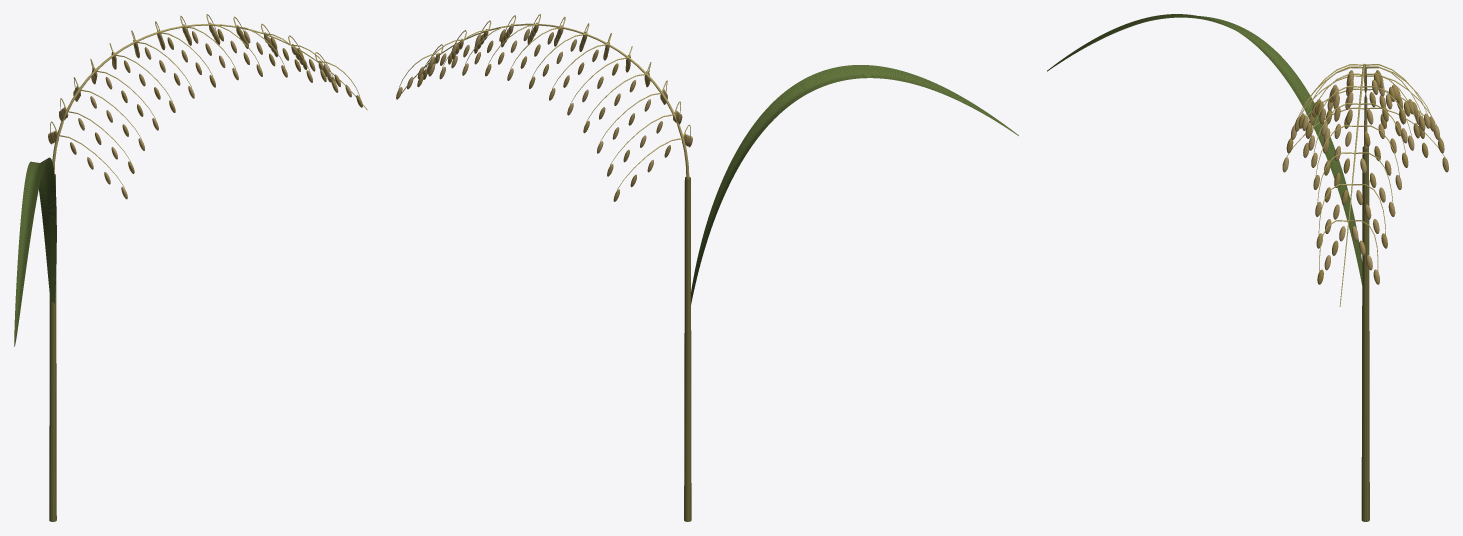
File: rice-detail.glb
3 views of the same model, side by side, from view 1: azimuth 30°, elevation 25°; view 2: azimuth 150°, elevation 25°; view 3: azimuth 270°, elevation 25° (orthographic). The views are drawn at different scales.
Parts seen in each view (by area): view 1: grain, grass-leaf, rachis, stem; view 2: grass-leaf, grain, stem, rachis; view 3: grain, rachis, grass-leaf, stem.
Boxes of the visible parts, left/top/right/bottom form: grain: left=48, top=22, right=362, bottom=199; grass-leaf: left=14, top=157, right=56, bottom=346; rachis: left=50, top=14, right=367, bottom=188; stem: left=49, top=174, right=56, bottom=521; grass-leaf: left=691, top=65, right=1018, bottom=304; grain: left=396, top=22, right=692, bottom=201; stem: left=684, top=177, right=691, bottom=521; rachis: left=398, top=14, right=690, bottom=191; grain: left=1282, top=70, right=1448, bottom=284; rachis: left=1285, top=63, right=1446, bottom=306; grass-leaf: left=1047, top=14, right=1362, bottom=285; stem: left=1361, top=146, right=1369, bottom=521.
Bounding box in the file's own units: 0.3555 × 0.3243 × 0.2345.
4 materials, 3 textured.
